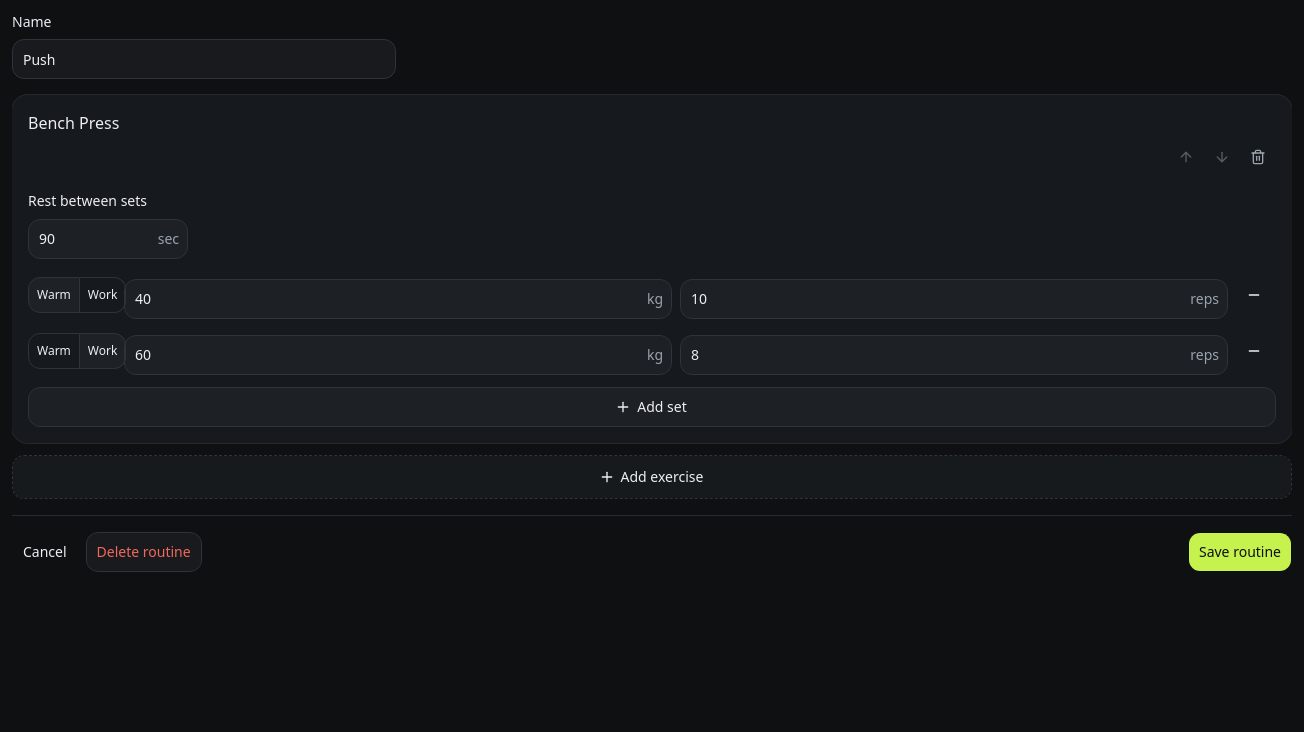
Scenario: RoutineEditor › won't save Rest between sets of lots, which the server would refuse
Replace the text in the field labelled "Rest between sets" with "lots" at x=93, y=238, box [29,222,158,254]
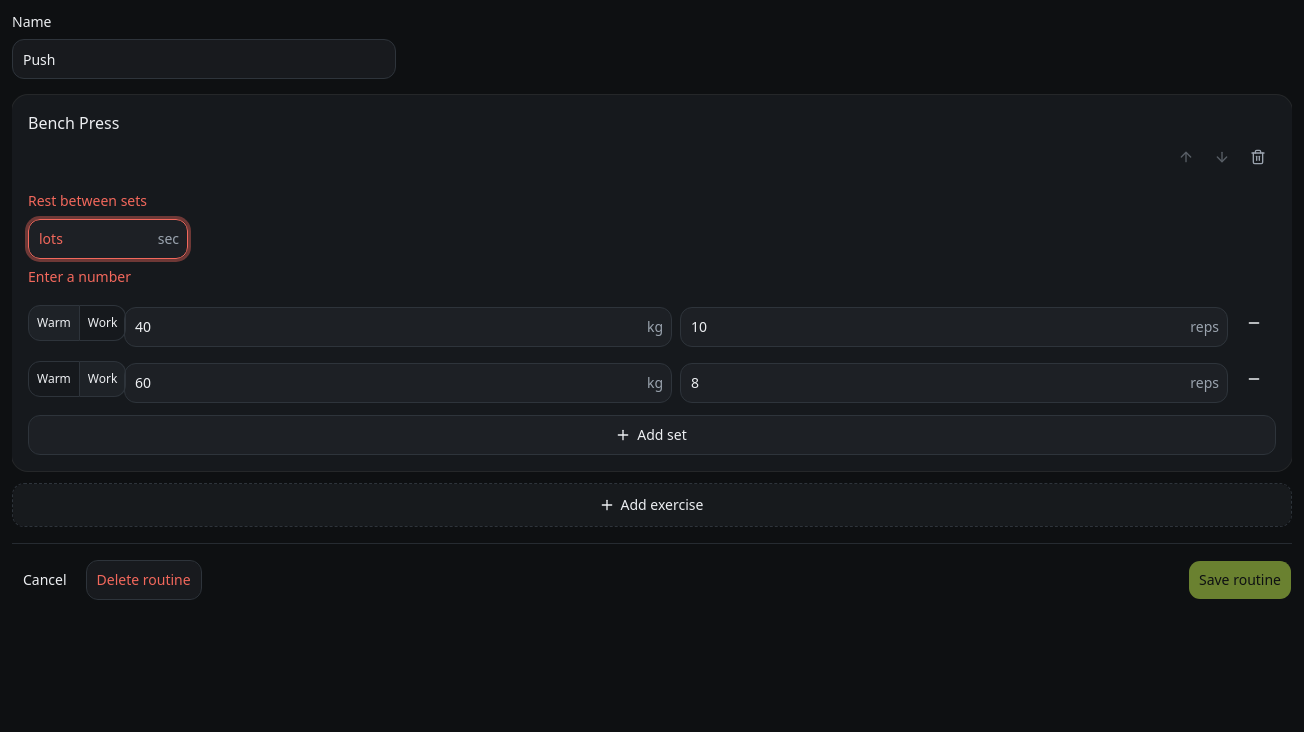
Expected: the text "Enter a number" is shown, [28,266,131,286]
Expected: the button "Save routine" is disabled, [1188,560,1292,600]
